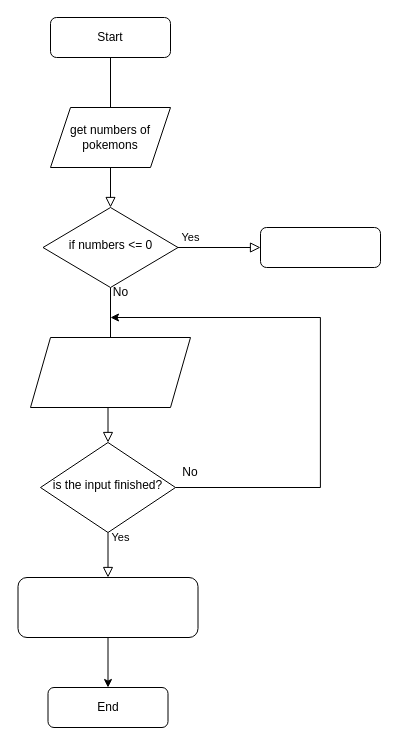
Image size: 398x745. Some labels were removed from this diagram. The centre of each missing label's shape, as x and y in pixels:
conversion array of pokemons to string, format and puts: the point at 107,607
exit: the point at 320,247
get name & color of pokemon, save to array of hashes: the point at 110,372
